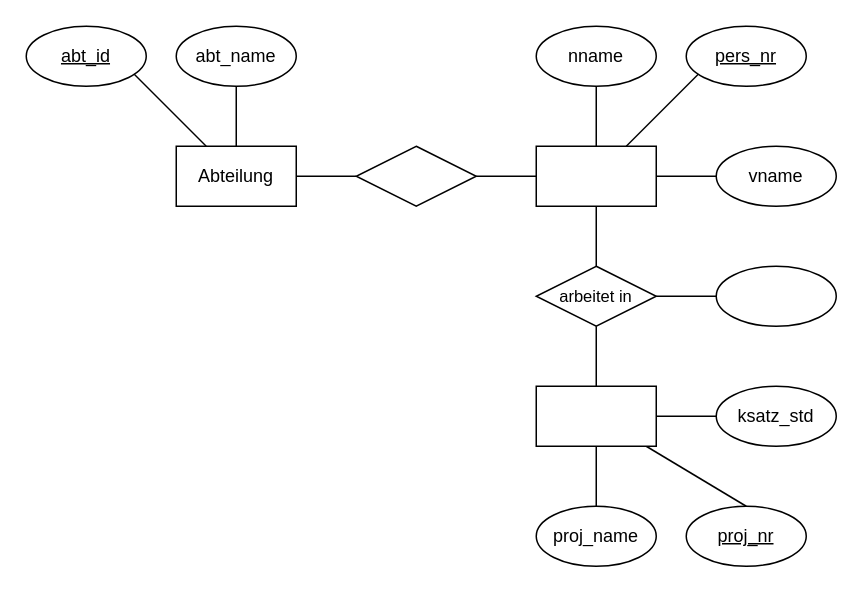
The diagram is 863 pixels wide and 593 high, and some of its shapes have lost their labels. The shapes that lost their labels are listed below. From the top down, each one's centre as x and y in pixels, then its label:
At (x=415, y=175): "arbeitet für".
At (x=595, y=175): "Mitarbeiter".
At (x=775, y=295): "stunden".
At (x=595, y=415): "Projekt".
